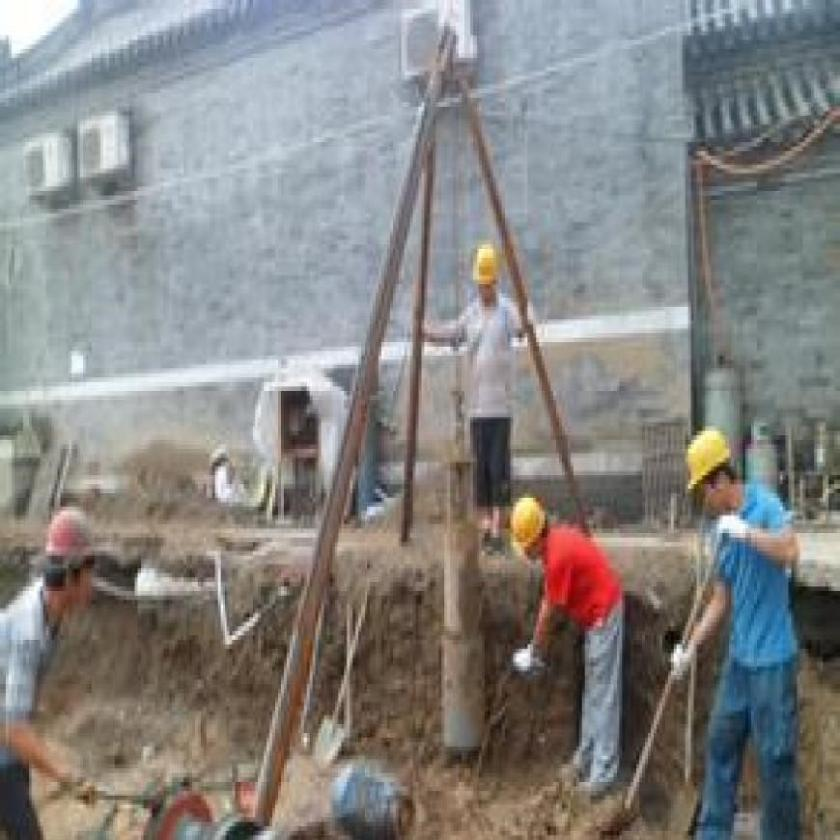Con_casco: (30, 491, 110, 623), (680, 429, 739, 513), (508, 491, 554, 566), (469, 241, 502, 316)
